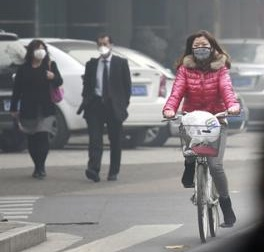person: (159, 30, 242, 243), (74, 33, 134, 184), (8, 38, 64, 181)
